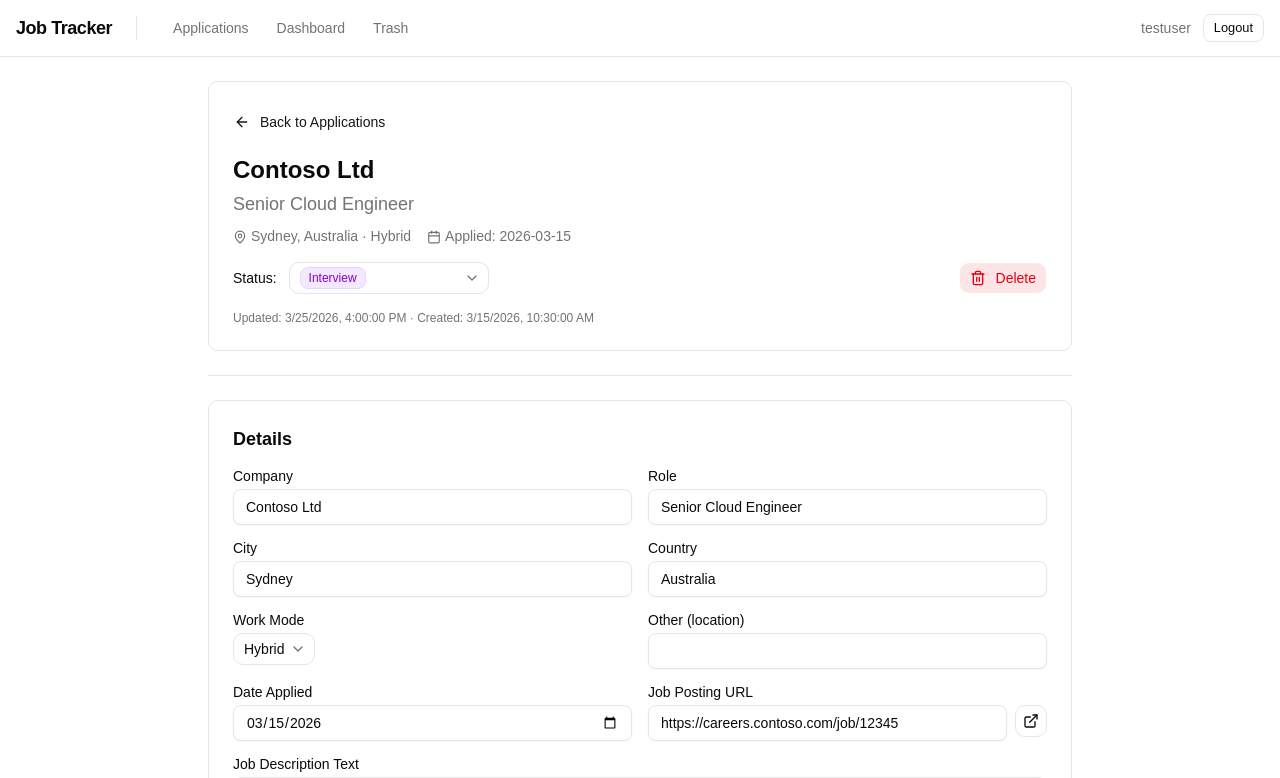
Test case: ApplicationDetailPage › closes rejection dialog on cancel without saving
The width and height of the screenshot is (1280, 778).
Expected: the heading "Contoso Ltd" is shown, left=233, top=156, right=374, bottom=183
Click the dropdown named "status". click: (389, 278)
box: left=289, top=262, right=489, bottom=294
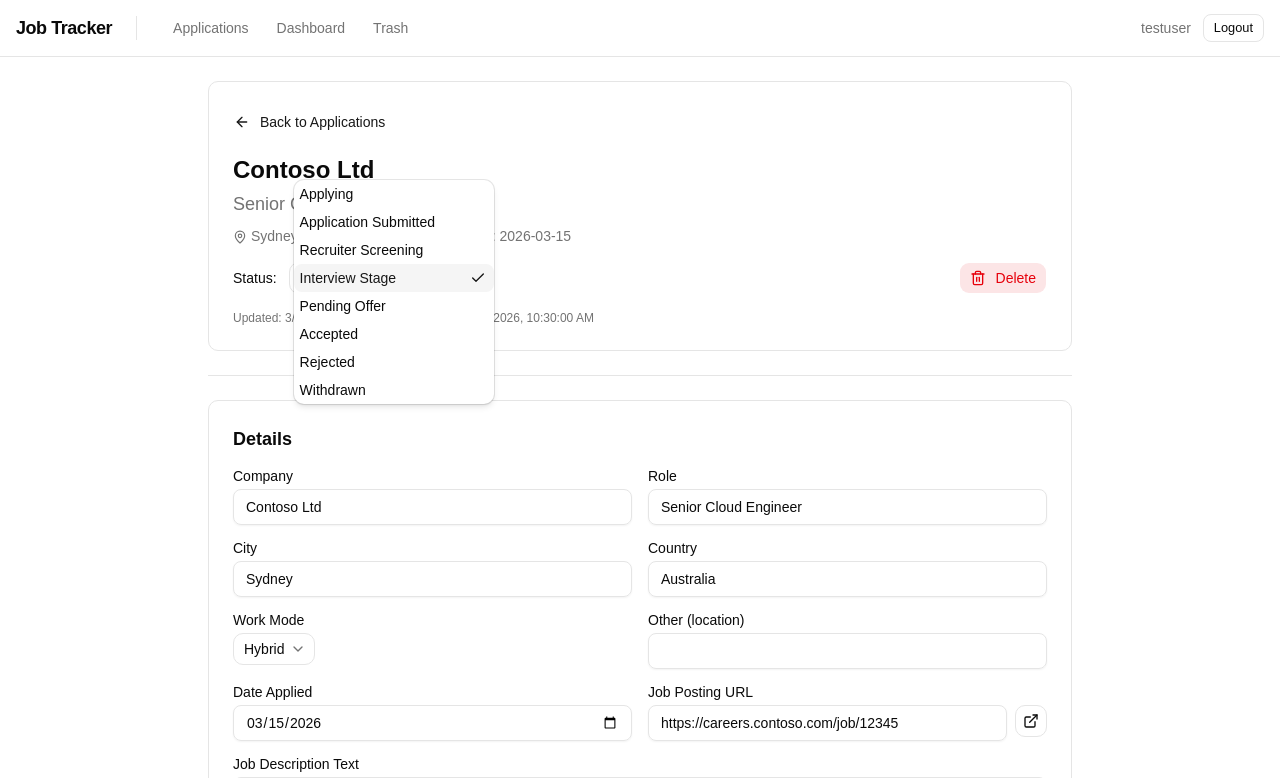
Click the option "Rejected". click: (327, 362)
box: left=300, top=354, right=355, bottom=370
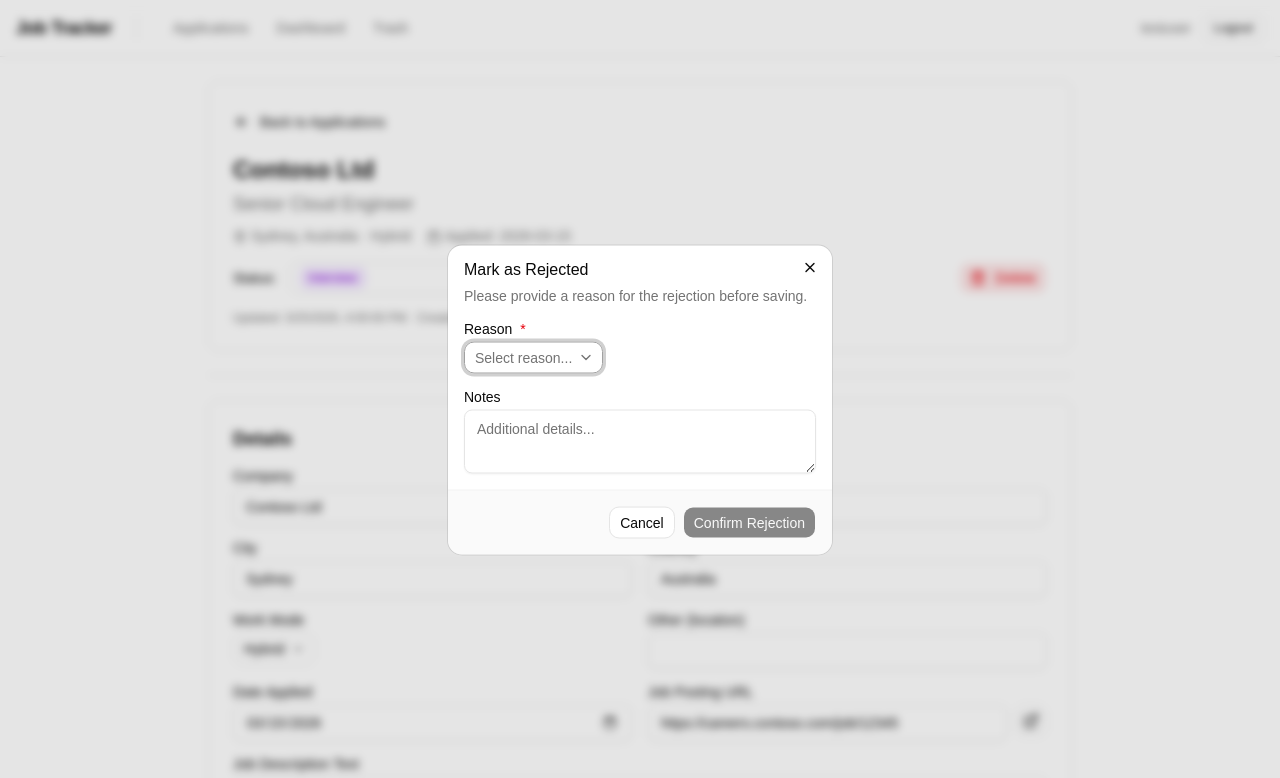
Now the dialog is shown, box left=448, top=246, right=832, bottom=554
Click the button "Cancel". click: (642, 522)
box: left=609, top=506, right=675, bottom=538
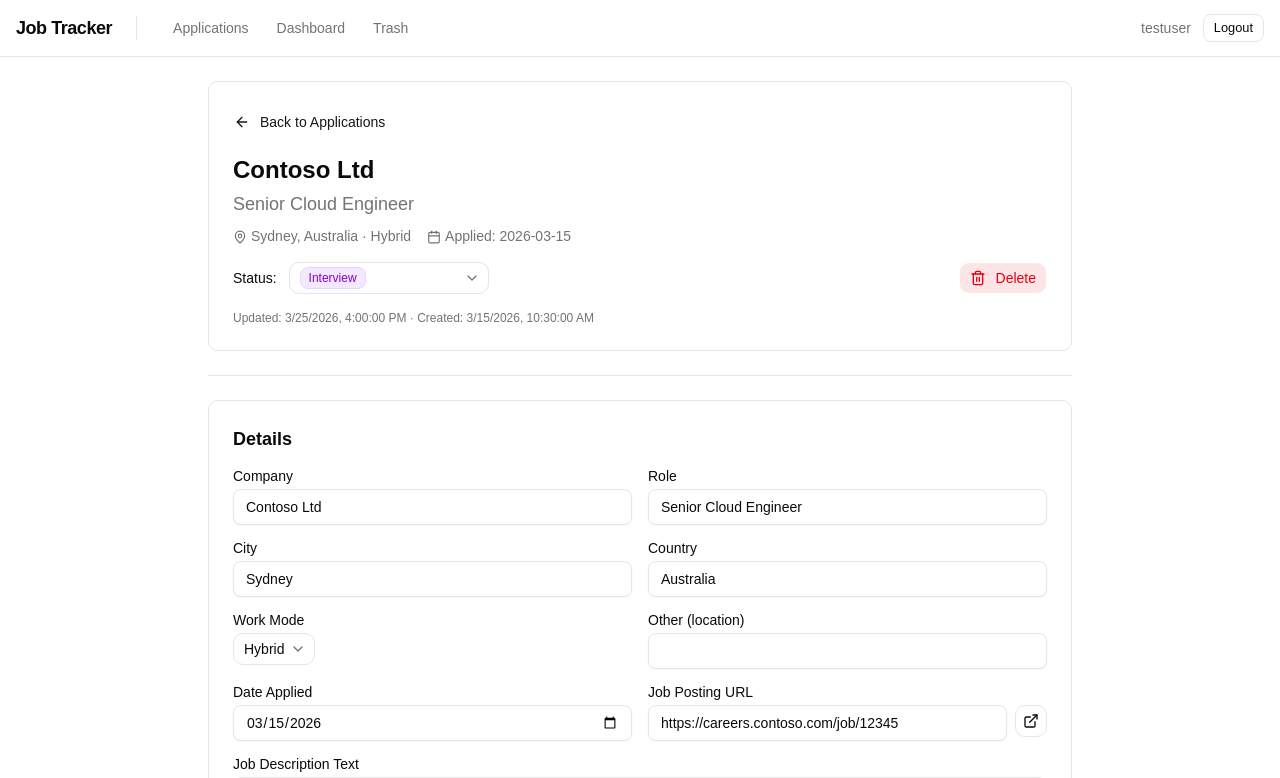
Now the dialog is gone
